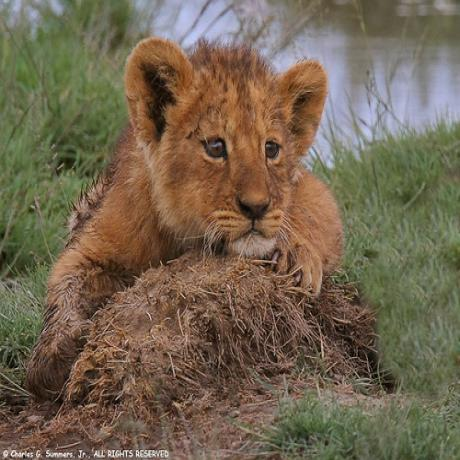Lion: (44, 36, 346, 316)
